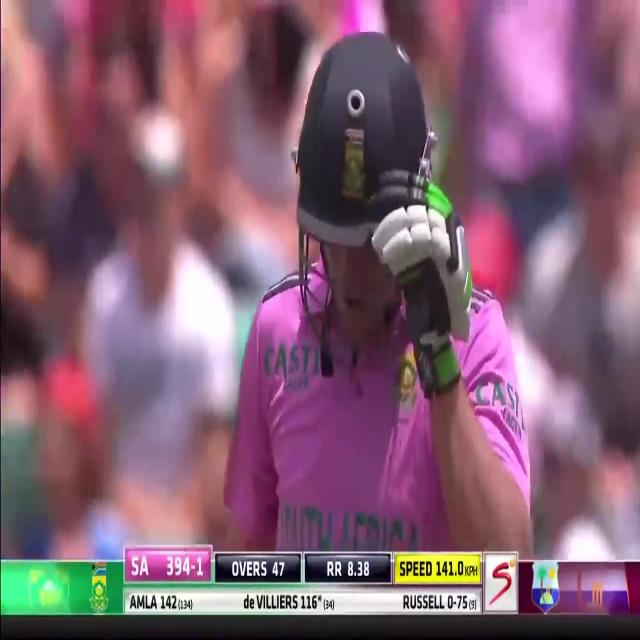Ball: (222, 15, 531, 545)
